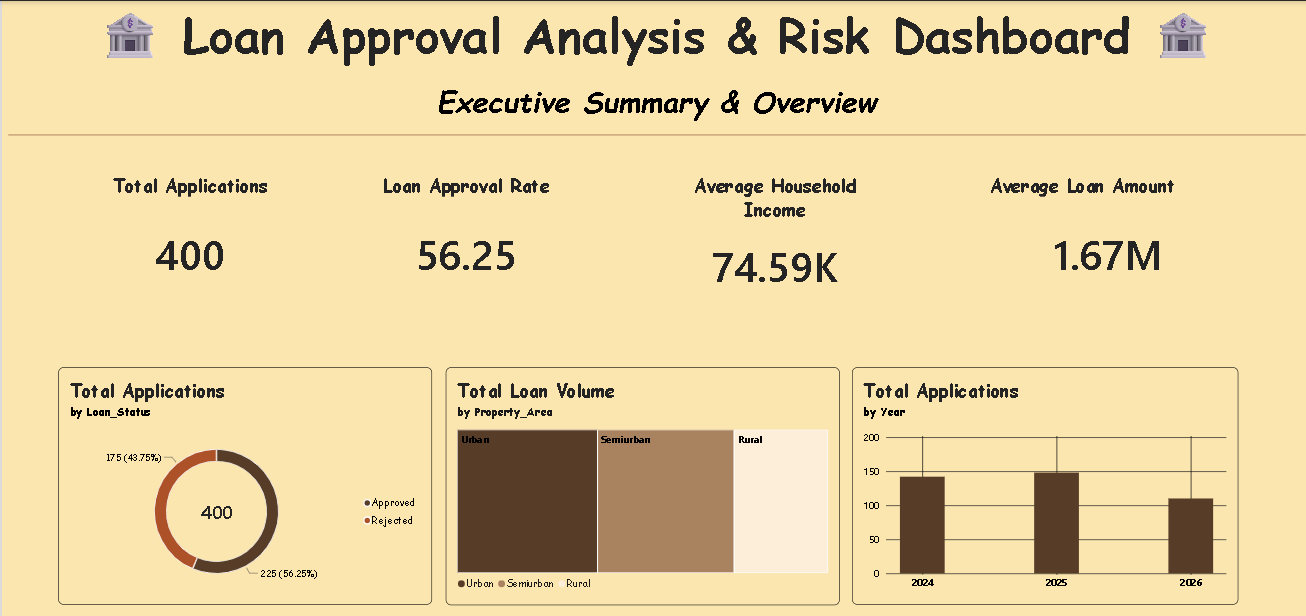

The dashboard page shown, as its layout file describes it:
{"tool":"powerbi","page":{"name":" Executive Summary & Overview","canvas":[1920,1080],"ordinal":0},"visuals":[{"type":"textbox","title":"🏦 Loan Approval Analysis & Risk Dashboard 🏦","box":[9.2,0,1910.4,202.5],"z":0},{"type":"cardVisual","title":"Total Applications","fields":{"Data":["loan_approval_analysis_400_rows_v2.Total Applications"]},"box":[103.1,252.1,347.9,184.1],"z":1000},{"type":"cardVisual","title":"Loan Approval Rate","fields":{"Data":["loan_approval_analysis_400_rows_v2.Approval Rate"]},"box":[509.8,252.1,347.9,184.1],"z":2000},{"type":"cardVisual","title":"Average Household Income","fields":{"Data":["Avg(loan_approval_analysis_400_rows_v2.Household_Income_Monthly_INR)"]},"box":[964.4,252.1,347.9,184.1],"z":3000},{"type":"cardVisual","title":"Average Loan Amount","fields":{"Data":["Avg(loan_approval_analysis_400_rows_v2.Loan_Amount_INR)"]},"box":[1454,252.1,347.9,184.1],"z":4000},{"type":"donutChart","fields":{"Category":["loan_approval_analysis_400_rows_v2.Loan_Status"],"Y":["loan_approval_analysis_400_rows_v2.Total Applications"]},"box":[82.8,539.3,550.3,349.7],"z":5000},{"type":"clusteredColumnChart","fields":{"Category":["loan_approval_analysis_400_rows_v2.Application_Date.Variation.Date Hierarchy.Year","loan_approval_analysis_400_rows_v2.Application_Date.Variation.Date Hierarchy.Quarter","loan_approval_analysis_400_rows_v2.Application_Date.Variation.Date Hierarchy.Month","loan_approval_analysis_400_rows_v2.Application_Date.Variation.Date Hierarchy.Day"],"Y":["loan_approval_analysis_400_rows_v2.Total Applications"]},"box":[1251.5,539.3,568.7,349.7],"z":6000},{"type":"treemap","fields":{"Group":["loan_approval_analysis_400_rows_v2.Property_Area"],"Values":["loan_approval_analysis_400_rows_v2.Total Loan Volume"]},"box":[653.4,539.3,580,350],"z":7000}]}

Visuals, with their boxes on the page's 1920x1080 design canvas (x1, y1, x2, y2). These are canvas units, not pixel positions in the 1306x616 screenshot, which may show the page scaled, cropped or inside an application window:
"🏦 Loan Approval Analysis & Risk Dashboard 🏦" textbox: BBox(9, 0, 1920, 202)
"Total Applications" cardVisual: BBox(103, 252, 451, 436)
"Loan Approval Rate" cardVisual: BBox(510, 252, 858, 436)
"Average Household Income" cardVisual: BBox(964, 252, 1312, 436)
"Average Loan Amount" cardVisual: BBox(1454, 252, 1802, 436)
donutChart - loan_approval_analysis_400_rows_v2.Loan_Status x loan_approval_analysis_400_rows_v2.Total Applications: BBox(83, 539, 633, 889)
clusteredColumnChart - loan_approval_analysis_400_rows_v2.Application_Date.Variation.Date Hierarchy.Year x loan_approval_analysis_400_rows_v2.Application_Date.Variation.Date Hierarchy.Quarter: BBox(1252, 539, 1820, 889)
treemap - loan_approval_analysis_400_rows_v2.Property_Area x loan_approval_analysis_400_rows_v2.Total Loan Volume: BBox(653, 539, 1233, 889)
